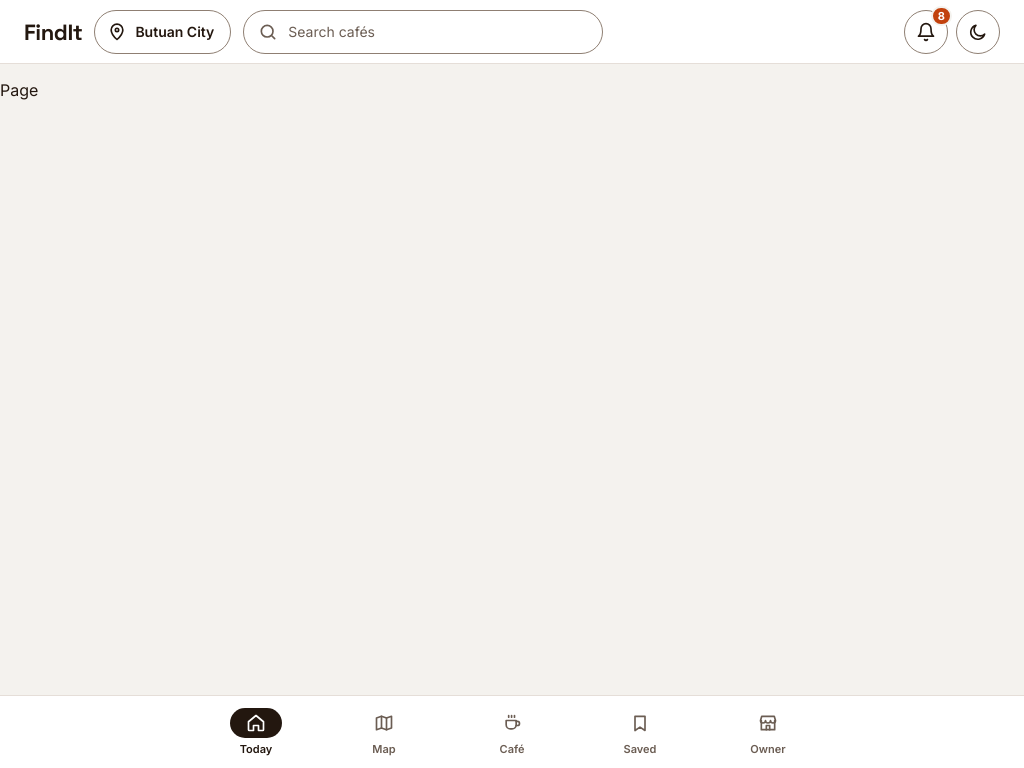
it: App shell › picks a place from the sheet, saves it, refreshes and confirms with a toast
Click the button with aria-label "Place: Butuan City" at (163, 32), box [94,10,231,54]
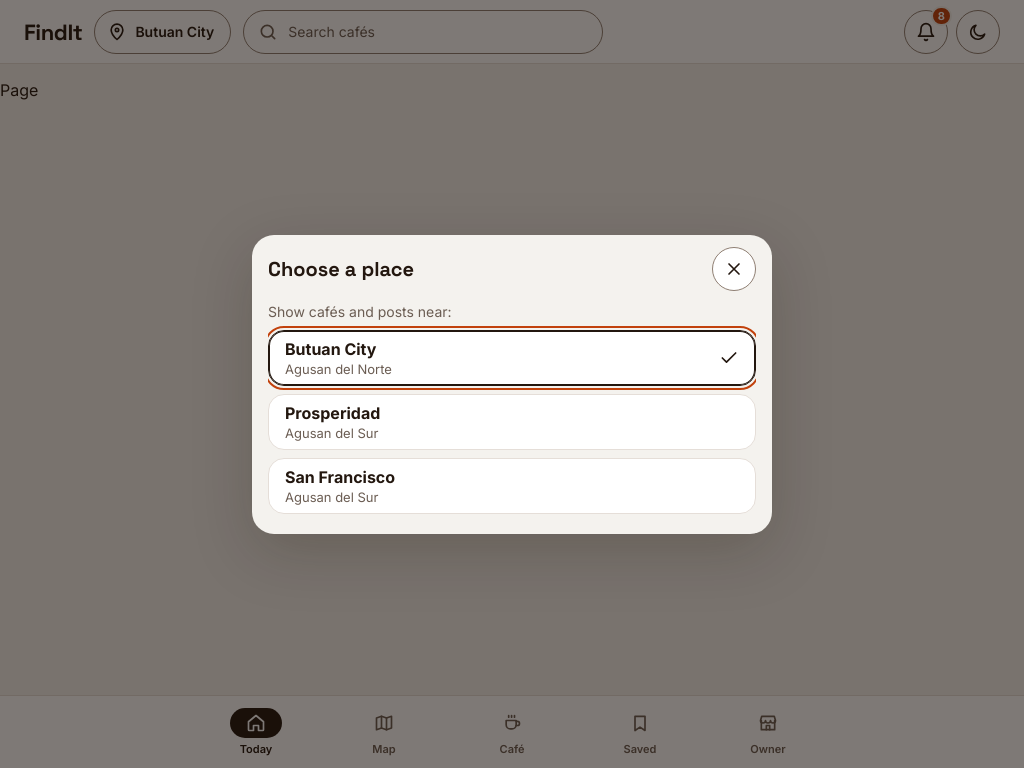
Click the button "San Francisco Agusan del Sur" at (340, 476), box [268,458,756,514]
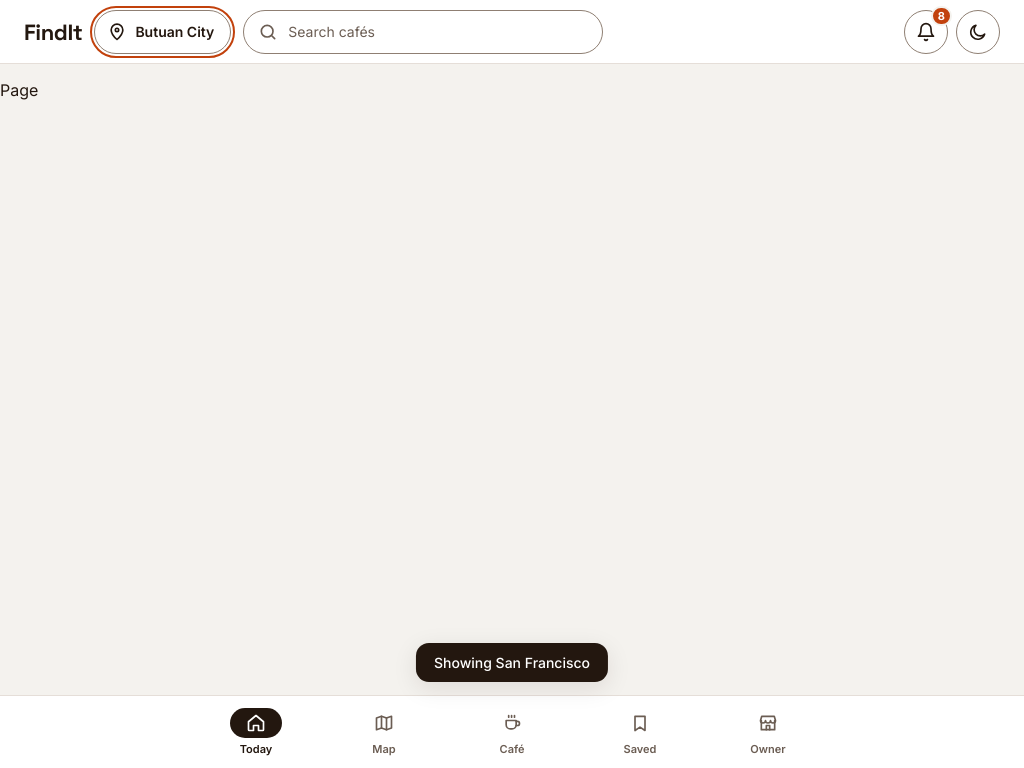
Result: the dialog is gone
Result: the message reads "Showing San Francisco" at [434,654,590,671]
